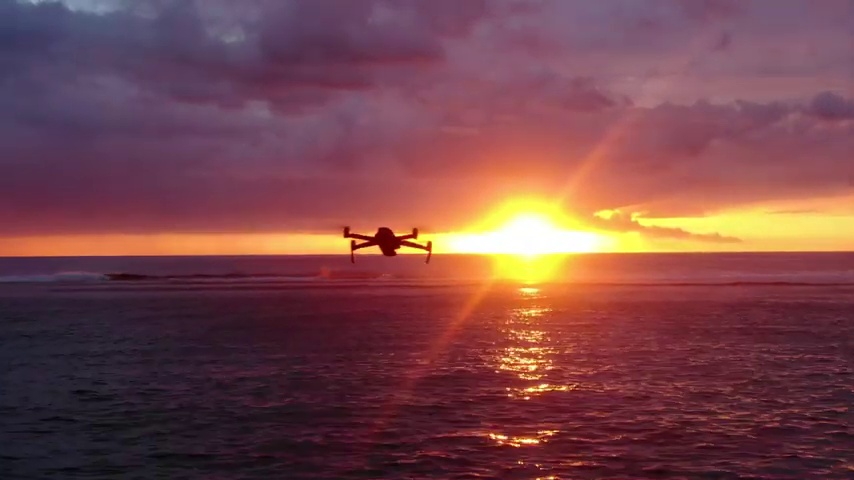drone: (342, 224, 432, 267)
